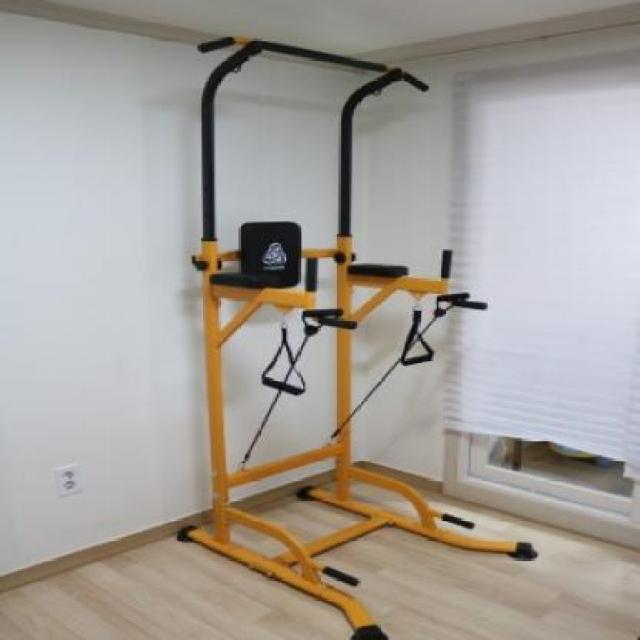chinning dipping: (178, 37, 542, 640)
